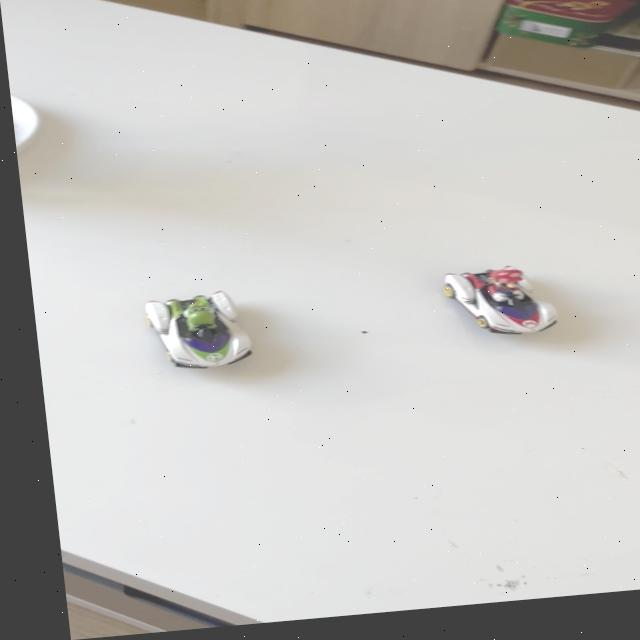mario: (419, 264, 575, 358)
yoshi: (121, 284, 270, 386)
